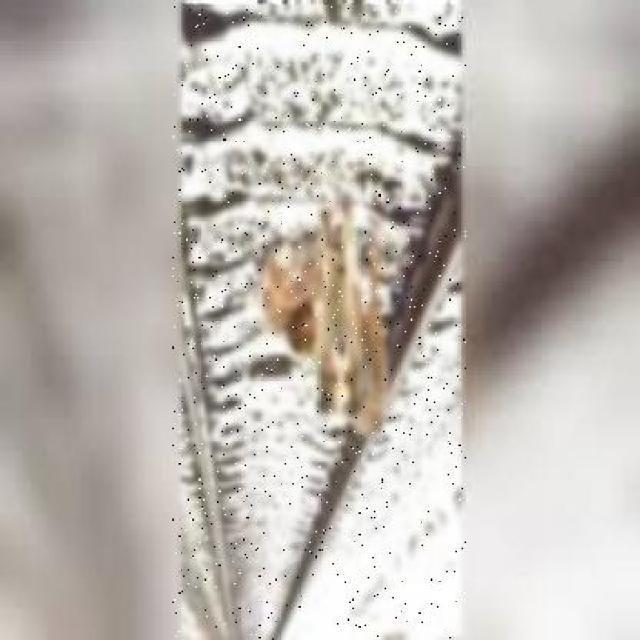rail: (173, 7, 466, 640)
